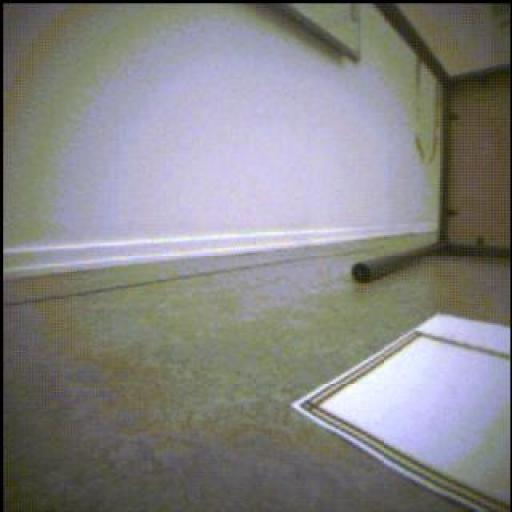Pad: (294, 317, 511, 512)
